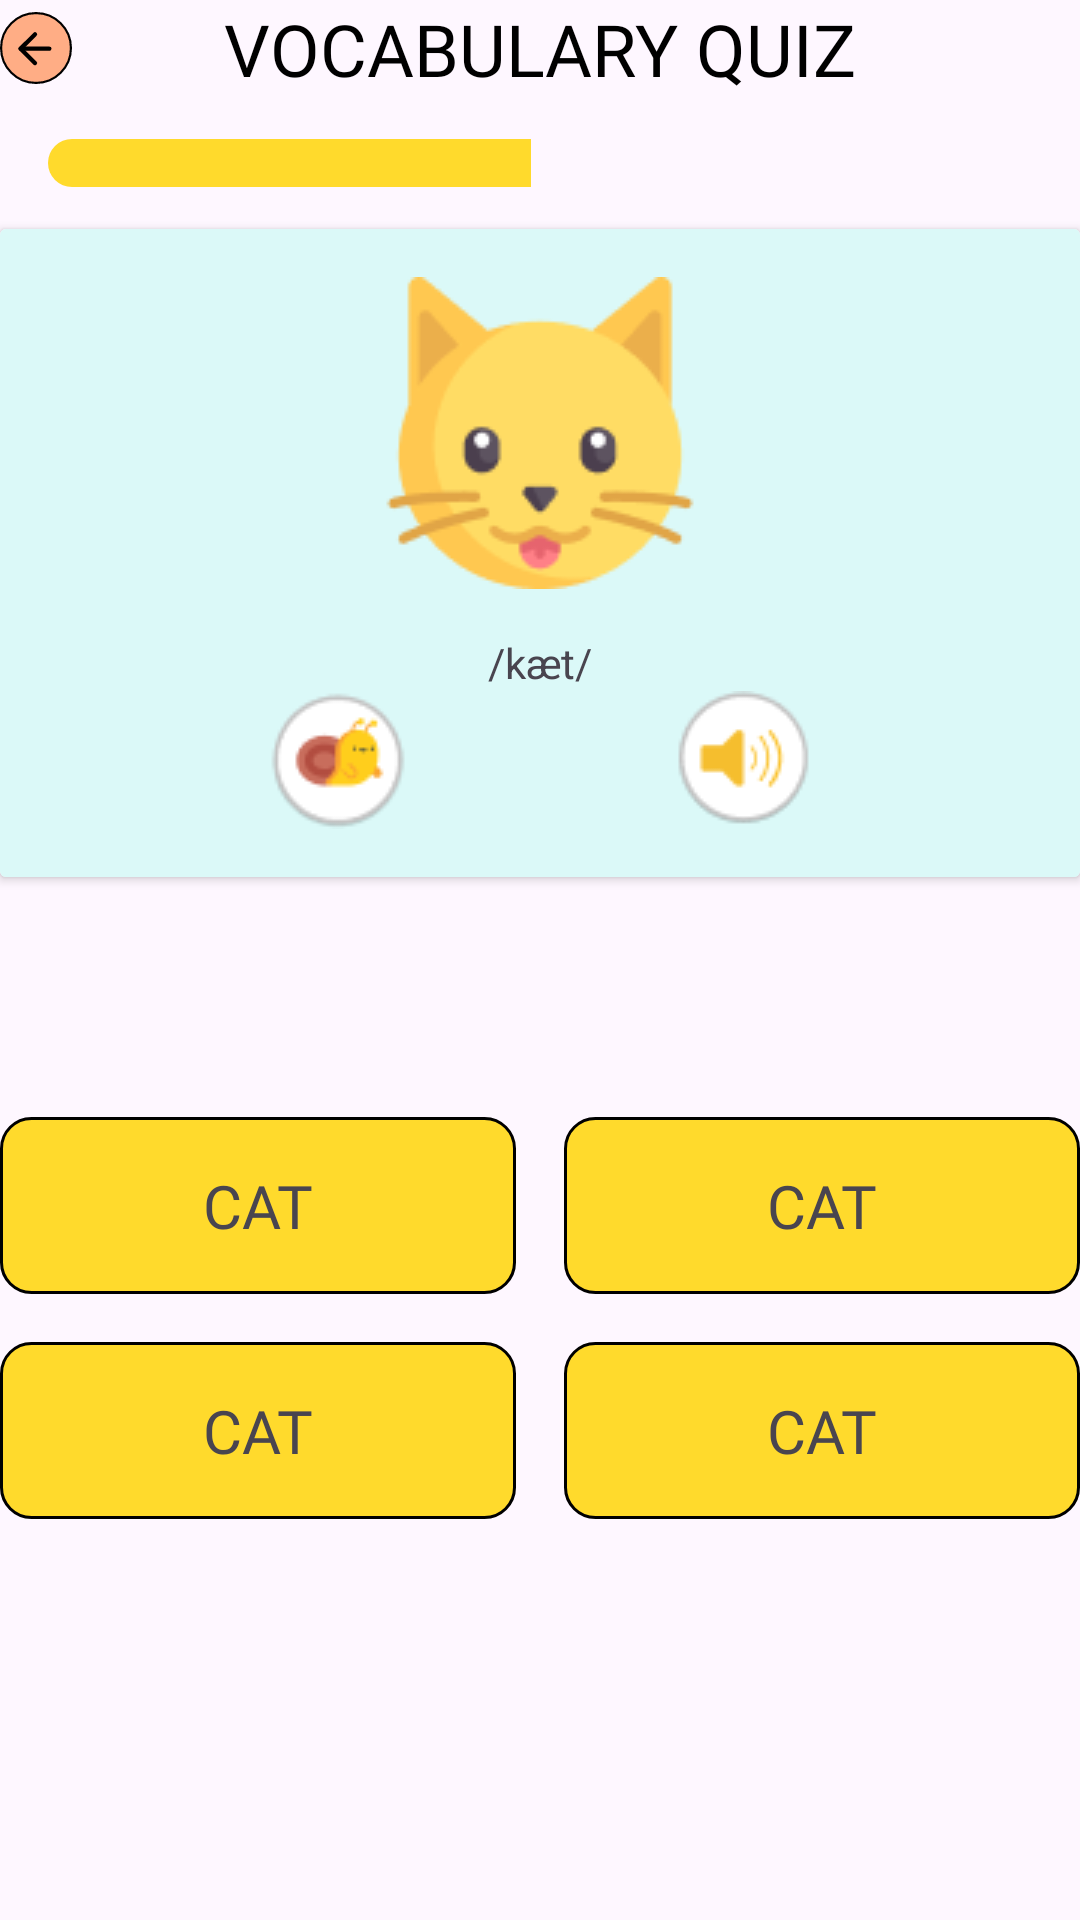

Icons on this 1080px x 1920px Android screen, each with the point to tap as (x,y):
back: (36,48)
cat: (540,433)
sound: (743,757)
